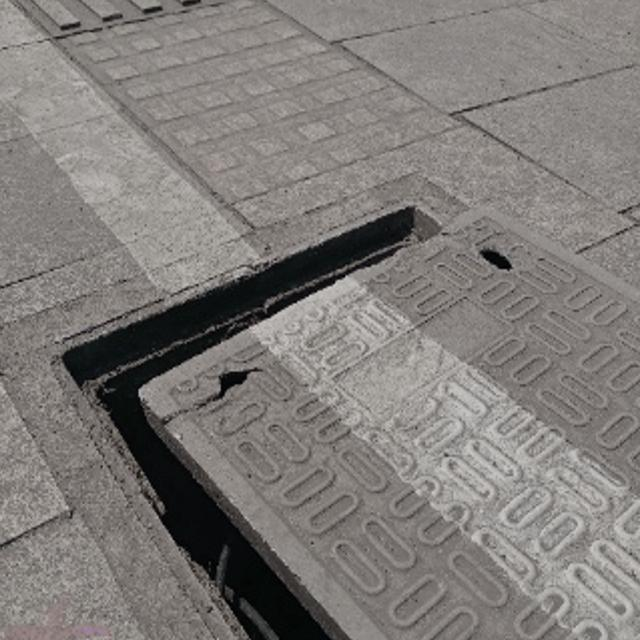uncovered: (48, 194, 640, 640)
